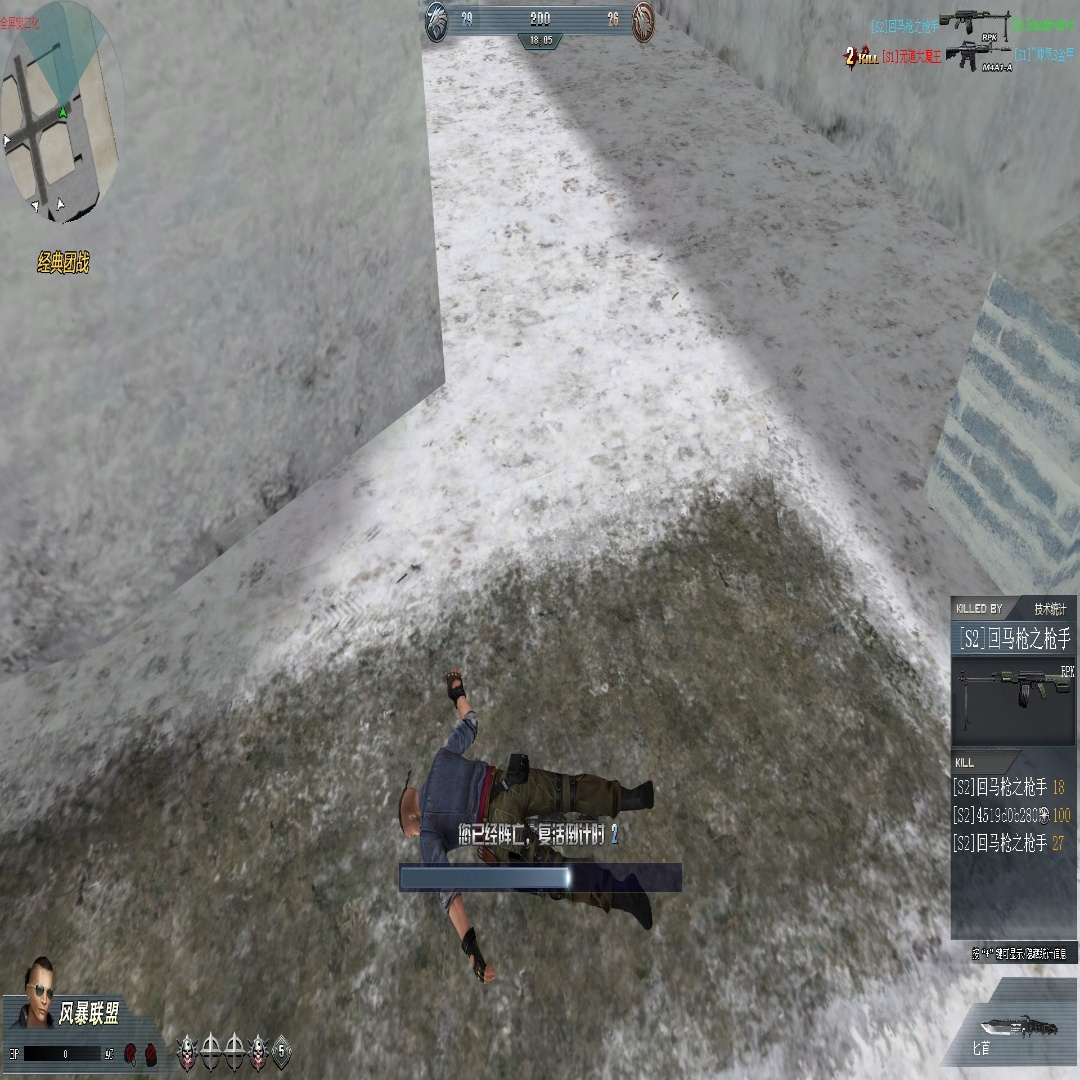ct: (631, 1, 656, 43)
